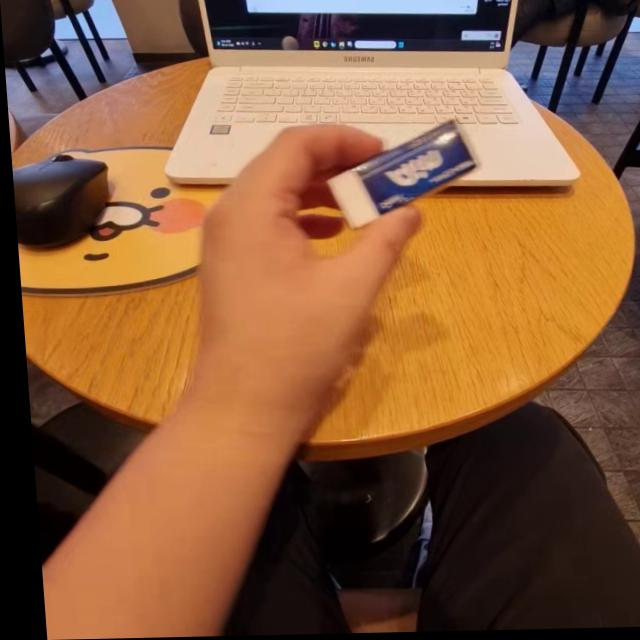grab_eraser: (171, 105, 490, 425)
mouse: (8, 143, 139, 252)
